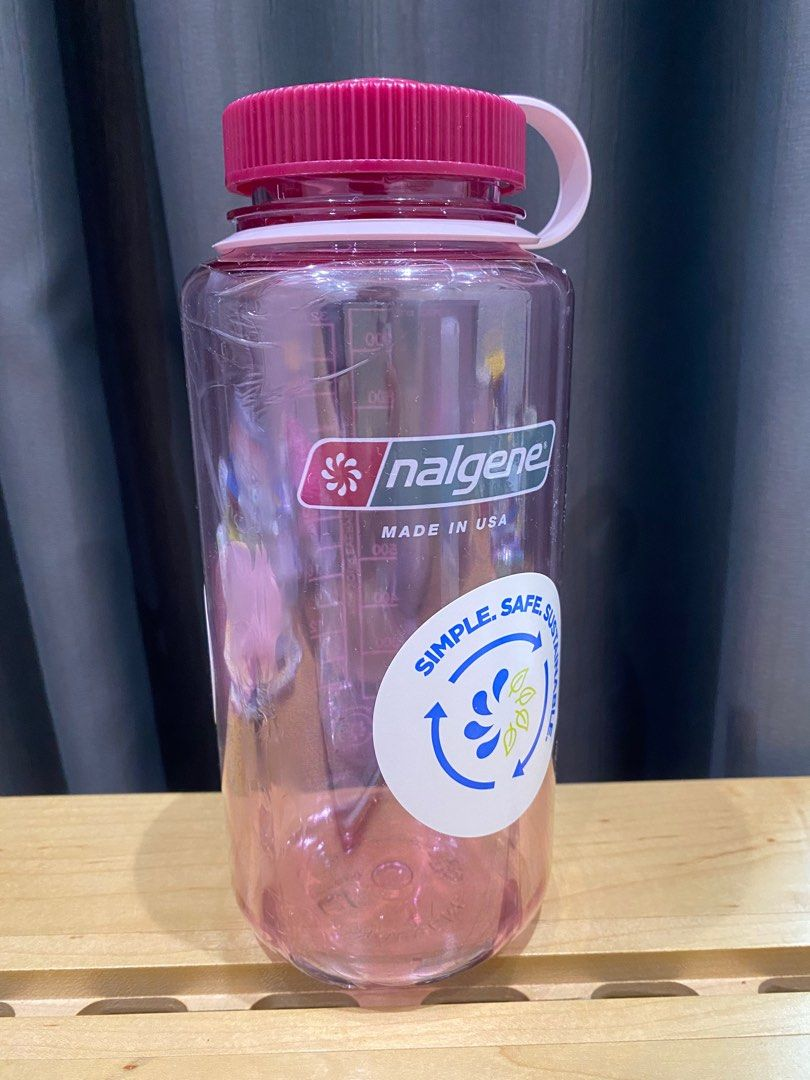waterbottle: (175, 69, 596, 989)
